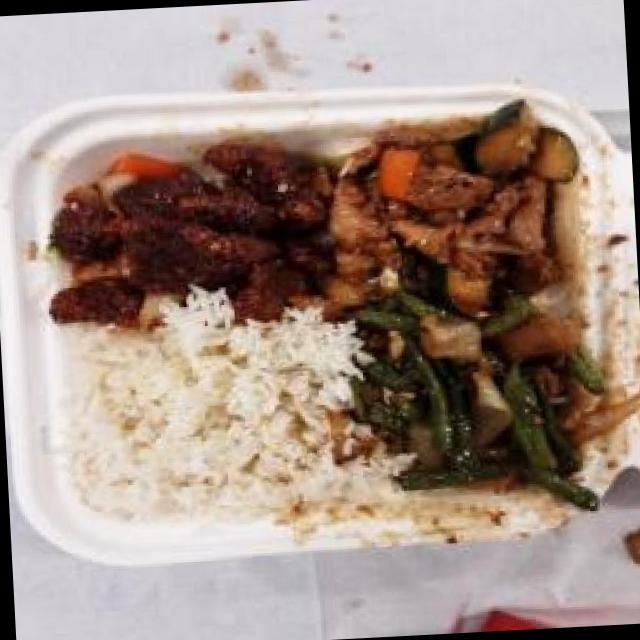Beijing Beef: (41, 124, 334, 324)
Kung Pao Chicken: (314, 104, 592, 318)
String Bean Chicken Breast: (349, 290, 617, 498)
White Steamed Rice: (64, 312, 338, 533)
